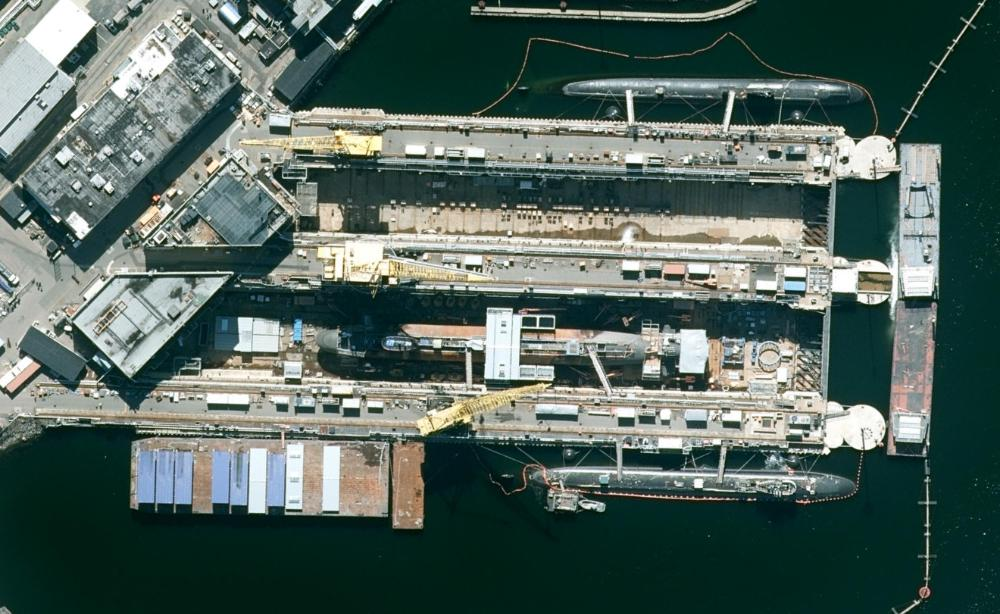submarine: (497, 64, 883, 129), (483, 451, 867, 511)
